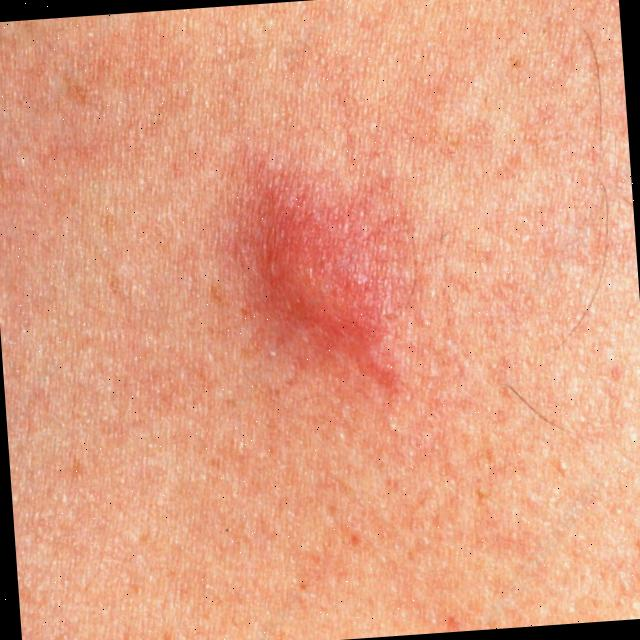sinek: (172, 143, 469, 442)
